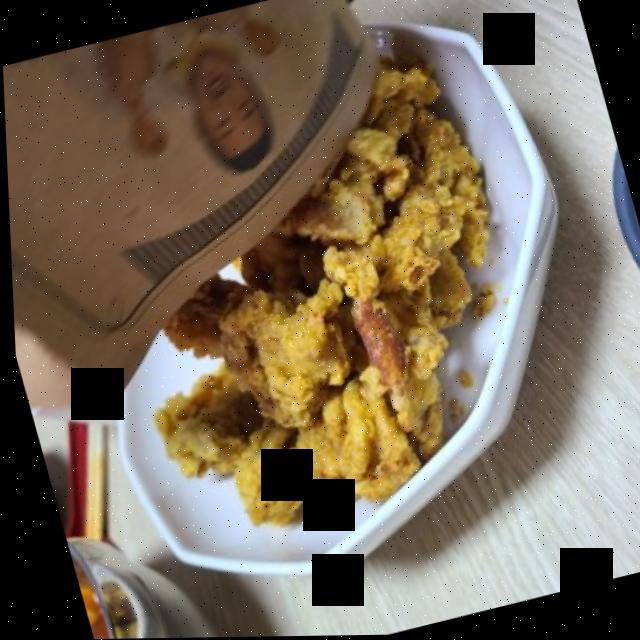Frango: (57, 24, 545, 563)
